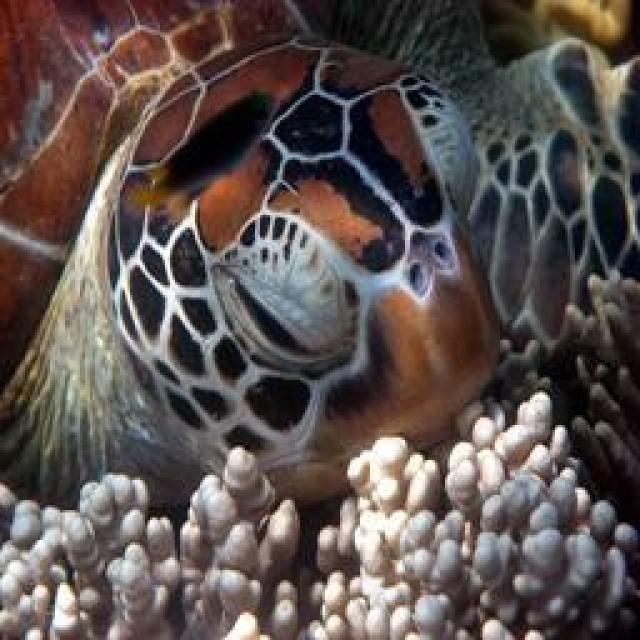fish: (0, 1, 638, 512)
reefs: (0, 269, 638, 638)
